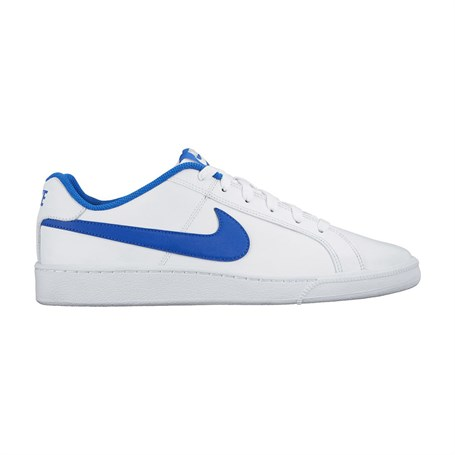nike: (52, 211, 251, 265)
